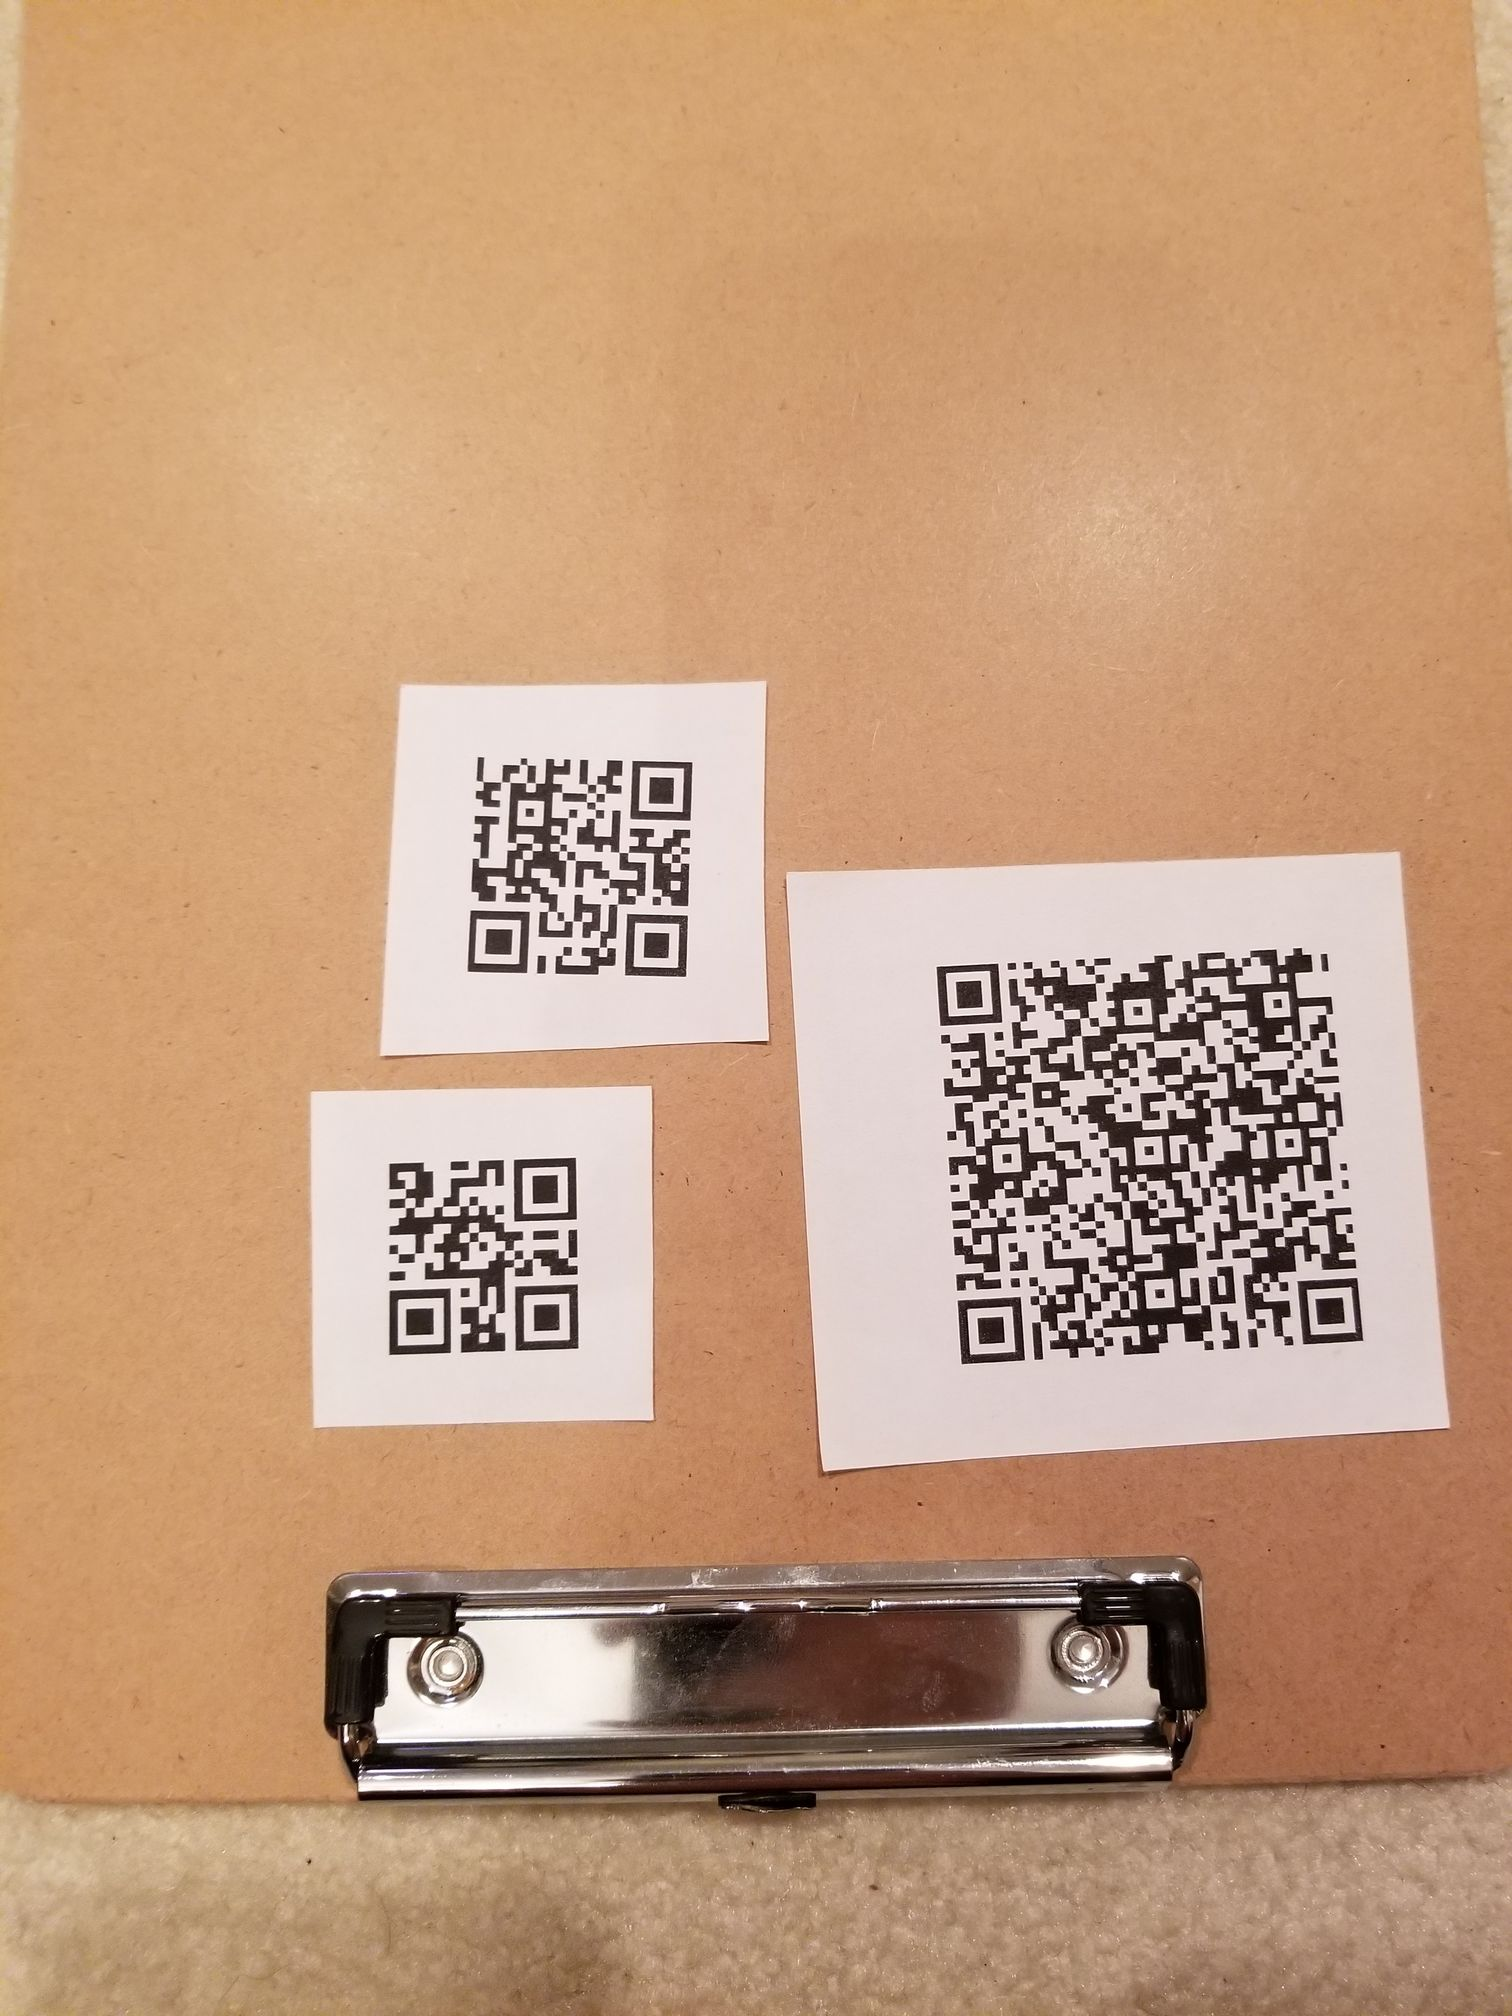QR_CODE: (901, 897, 1393, 1395), (418, 702, 729, 1018), (348, 1102, 621, 1387)
